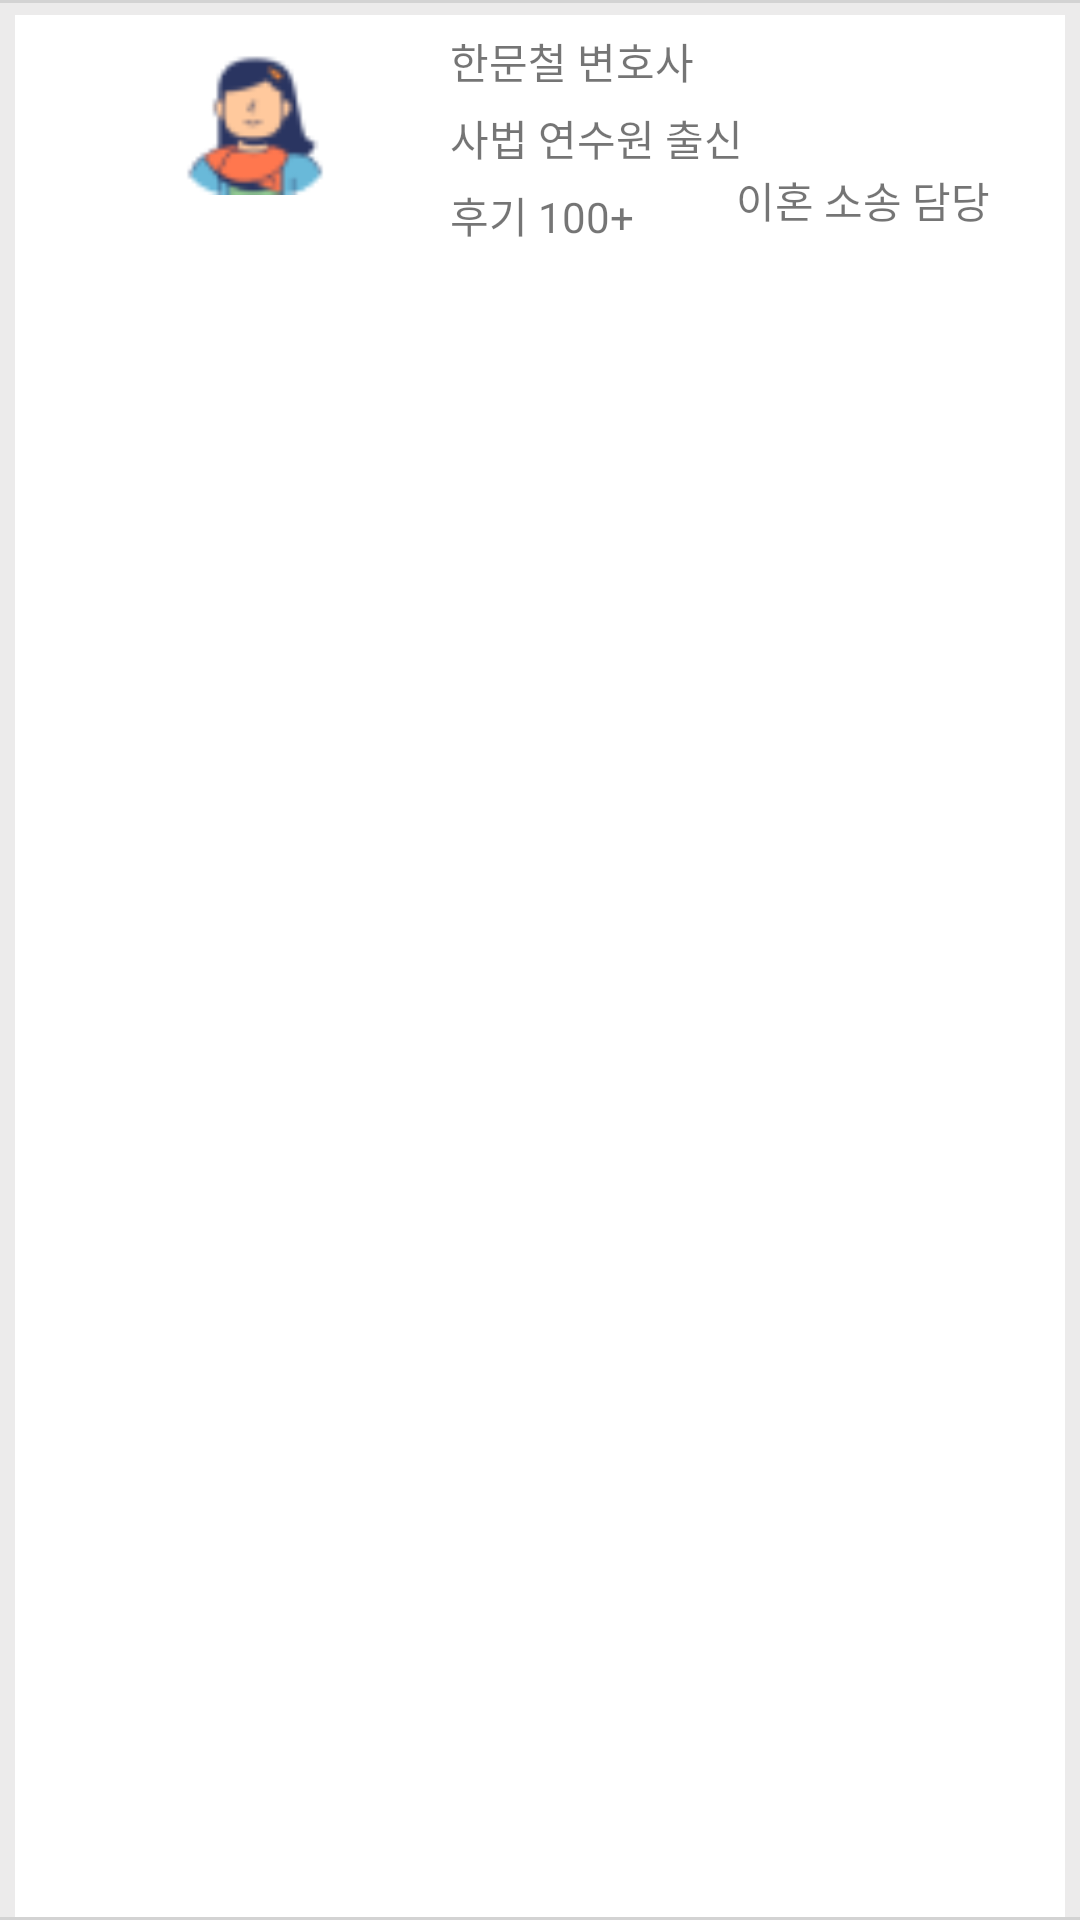

Icons on this 1080px×1920px Android screen, each with the point to tap as (x=x, y=y):
chat profile: (x=255, y=125)
